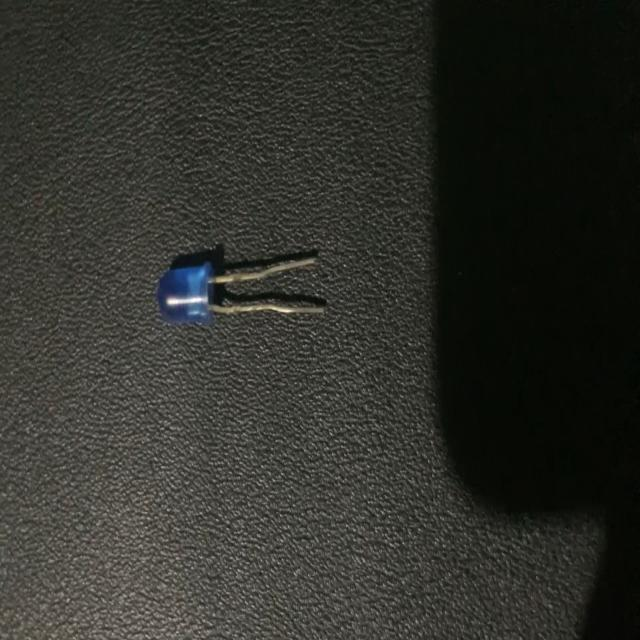LED: (156, 250, 327, 332)
